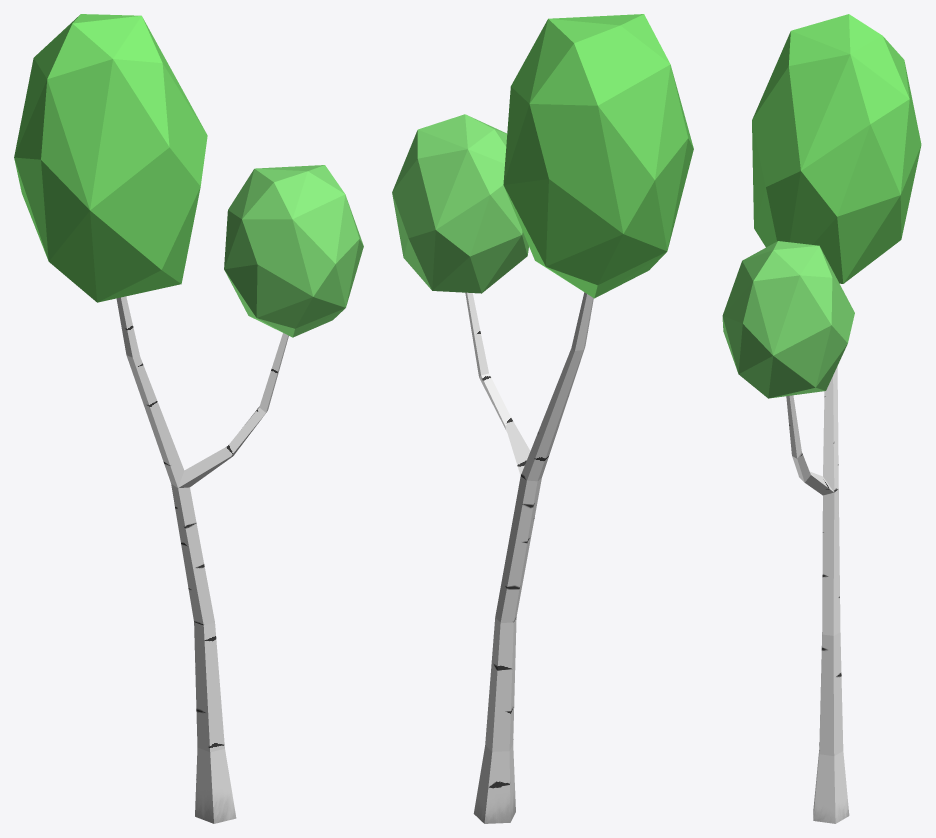
Rendered from Birch_Tree_m_02.glb.
3 renders of one model, left to right at view 1: azimuth 30°, elevation 25°; view 2: azimuth 150°, elevation 25°; view 3: azimuth 270°, elevation 25°, orthographic. The views are drawn at different scales.
Visible parts, largest first — view 1: Birch_Tree_m_02; view 2: Birch_Tree_m_02; view 3: Birch_Tree_m_02.
Boxes of the visible parts, left/top/right/bottom form: Birch_Tree_m_02: left=14, top=14, right=363, bottom=823; Birch_Tree_m_02: left=392, top=14, right=693, bottom=823; Birch_Tree_m_02: left=722, top=14, right=921, bottom=823.
Size of the model in its own units: 3.72 by 9.7 by 2.36.
1 material, 1 textured.
